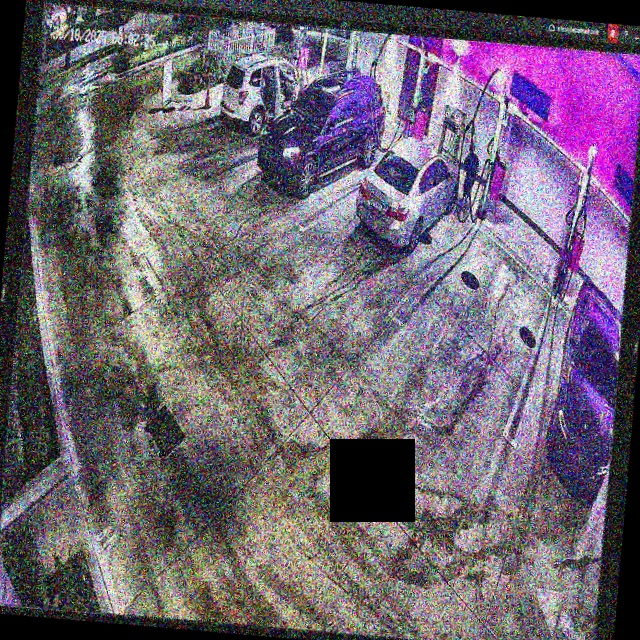Car: (255, 63, 389, 203), (352, 131, 463, 253)
